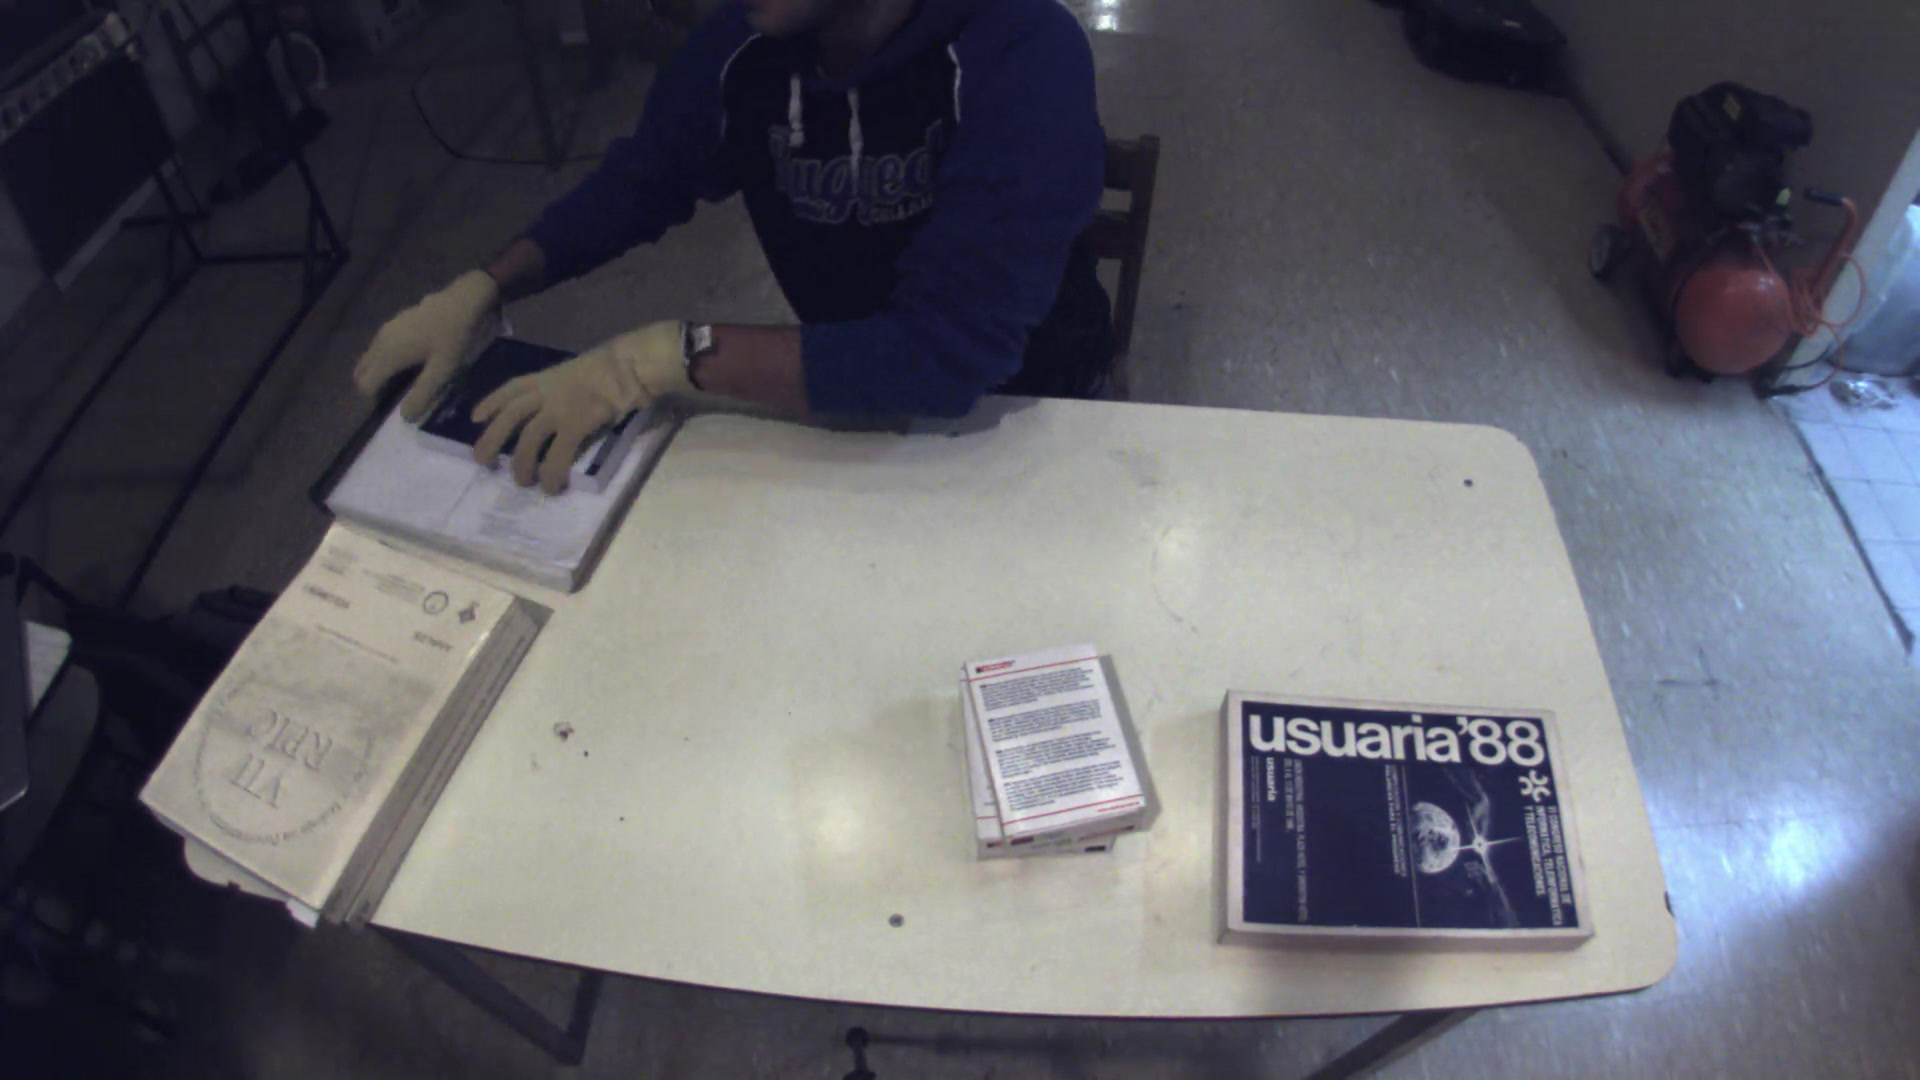hand: (462, 309, 683, 495), (343, 260, 501, 436)
